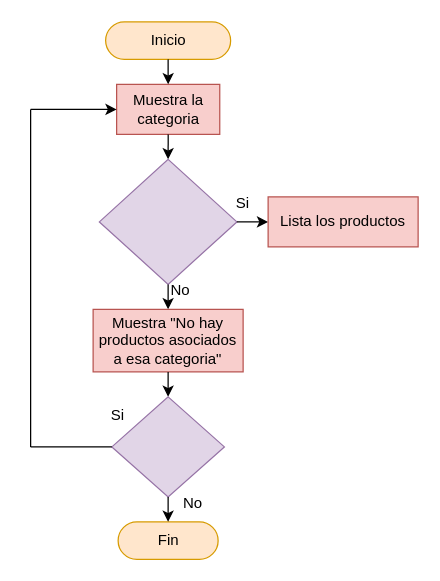
This 440x581 diagram has some shape labels left out. Here are the shapes that lost their labels. From the top down, the box of each, then its label:
(98, 158, 237, 284): ¿Hay productos asociado a esa categoria?
(111, 396, 224, 497): ¿Hay mas categorias?
